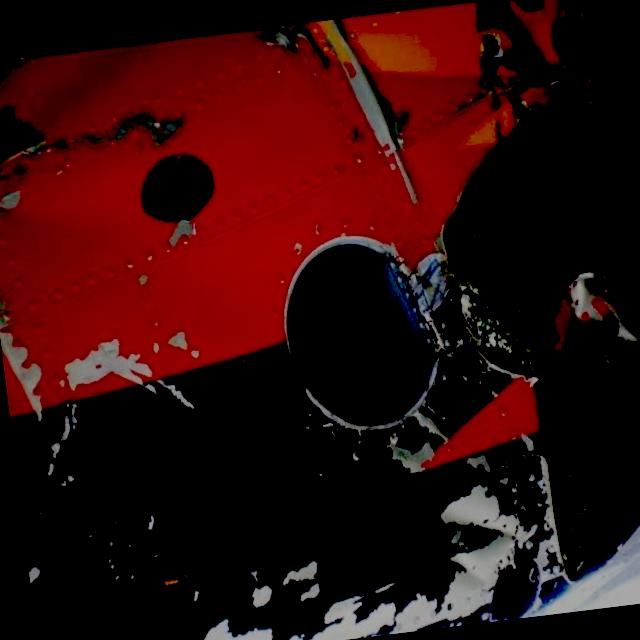dent: (6, 186, 124, 267)
